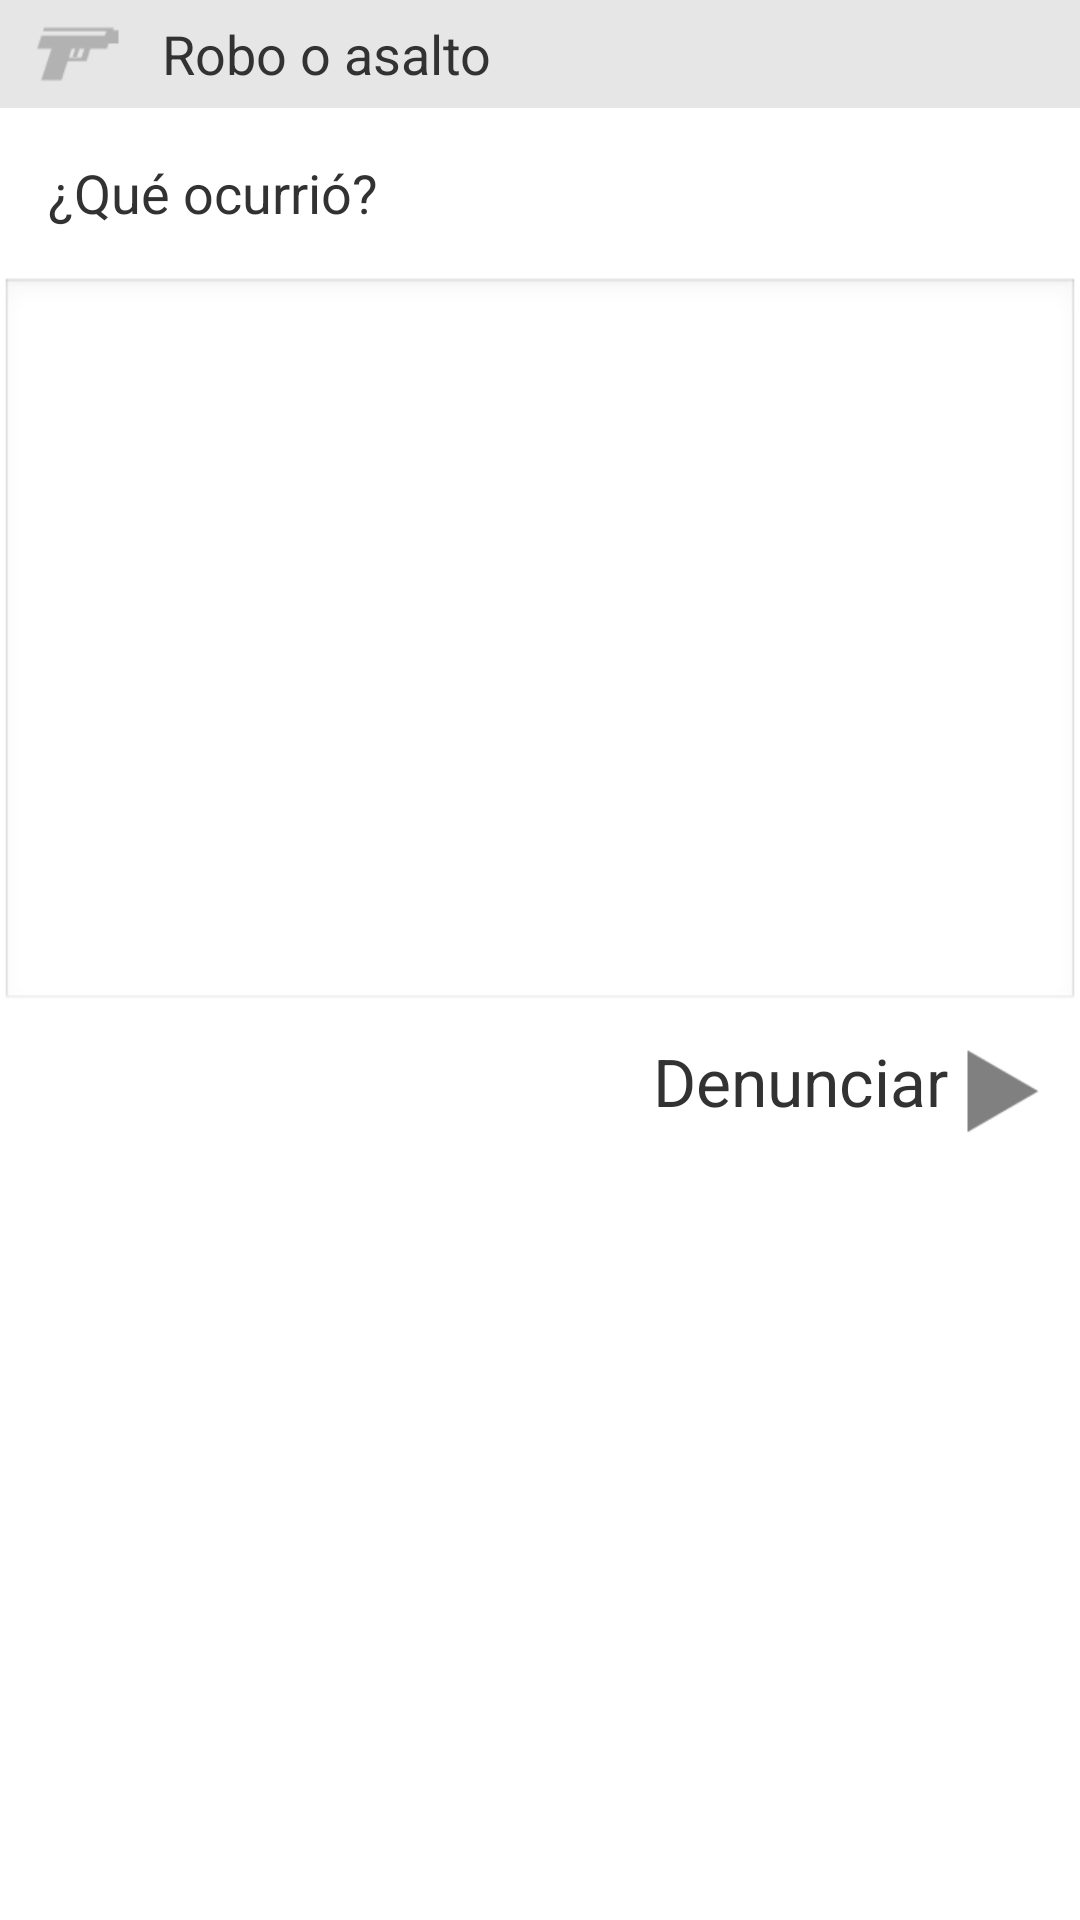

Icon bounding boxes for this 1080px×1920px phone screenshot, format (x1, y1, x2, y2):
assault: (38, 28, 119, 80)
next: (967, 1050, 1038, 1132)
